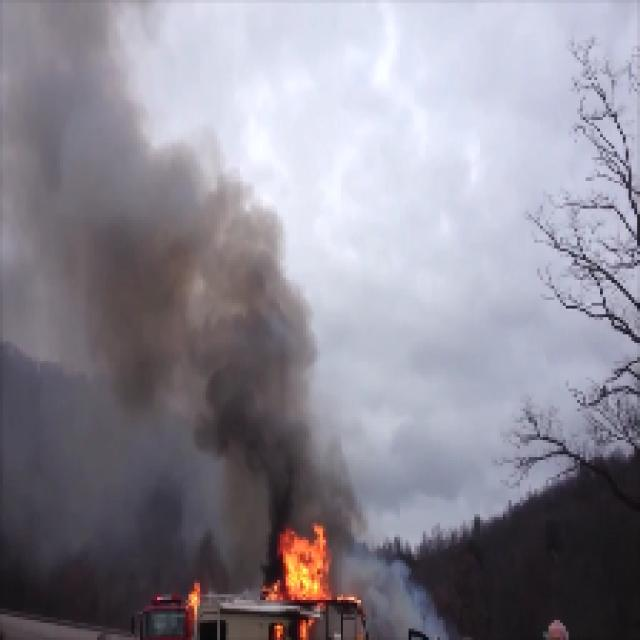fire: (283, 529, 332, 601)
smoke: (106, 168, 219, 388), (215, 322, 330, 498)
